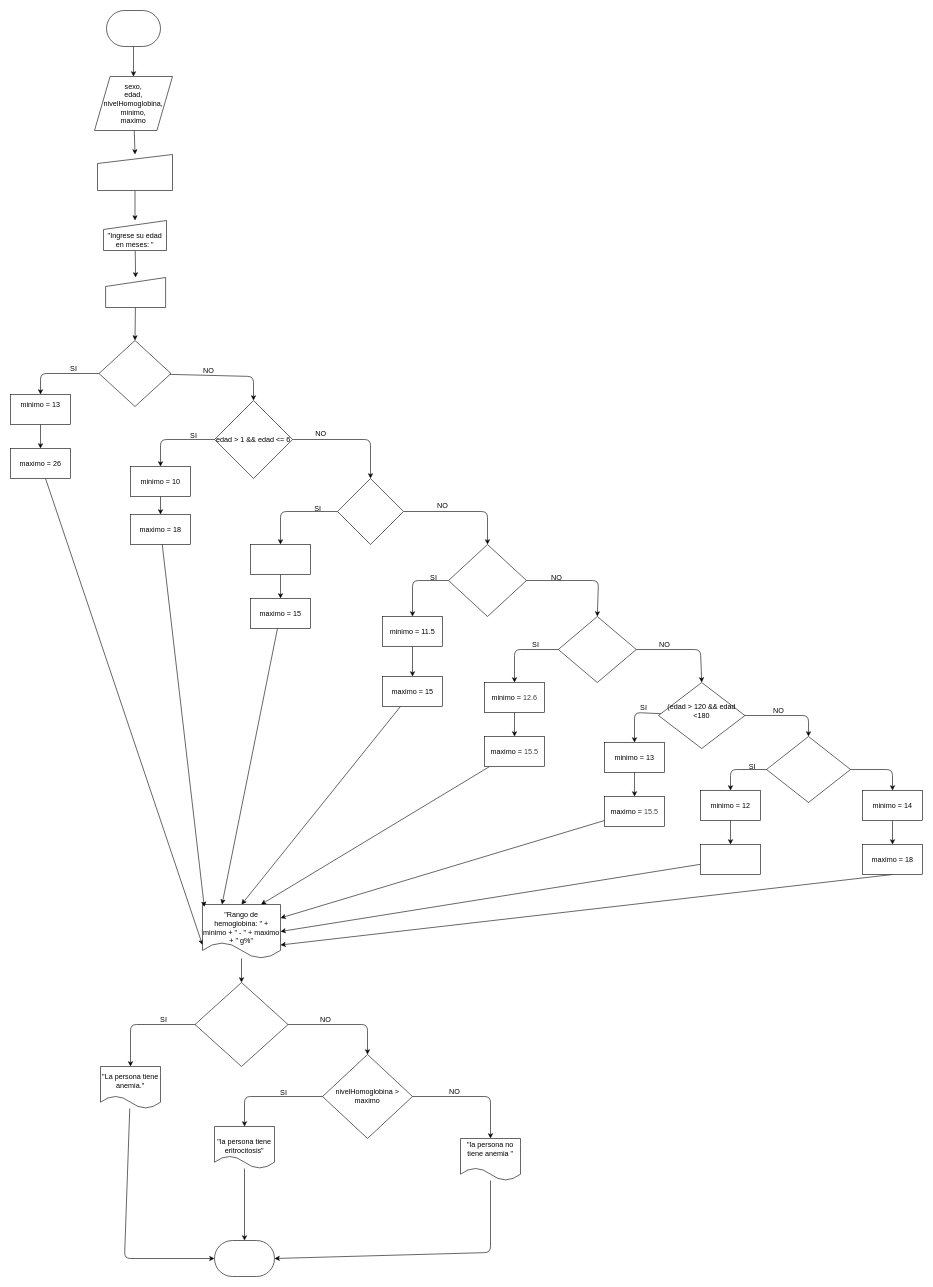
The diagram is 933 pixels wide and 1287 high, and some of its shapes have lost their labels. The box of each missing label's shape, as (x1, y1, x2, y2) in pixels:
"Ingrese el nivel de hemoglobia": (105, 277, 166, 308)
"Ingrese su sexo ( M = mujer|| H = Hombre ): ": (97, 154, 172, 190)
edad == 0 && edad == 1: (98, 340, 171, 406)
edad > 12 && edad <= 60: (448, 544, 526, 616)
edad > 6 && edad <= 12: (337, 478, 404, 544)
edad > 60 && edad <= 120: (558, 616, 636, 682)
Fin: (214, 1240, 274, 1276)
Inicio: (106, 10, 160, 46)
maximo = 16: (700, 844, 760, 874)
minimo = 11: (250, 544, 310, 574)
nivelHomoglobina < minimo: (194, 982, 288, 1066)
sexo == 'M' ||sexo == 'm': (766, 736, 850, 802)
